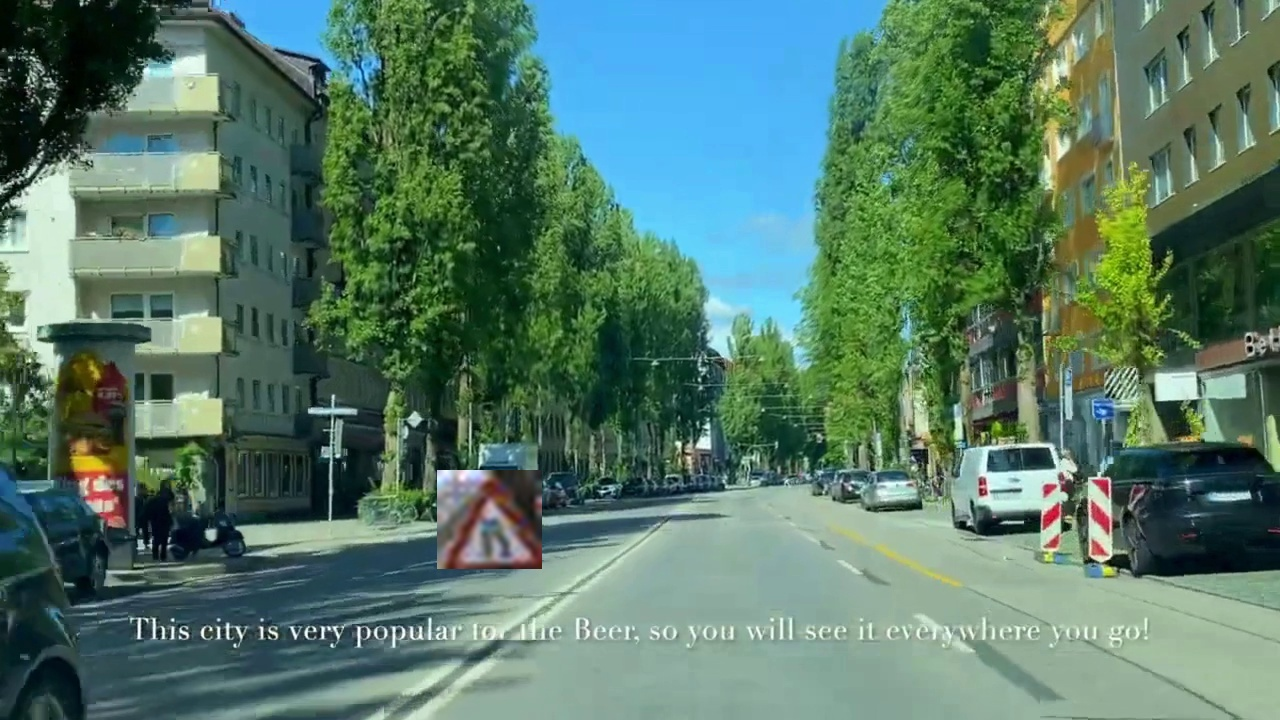Road narrows: (437, 470, 542, 569)
